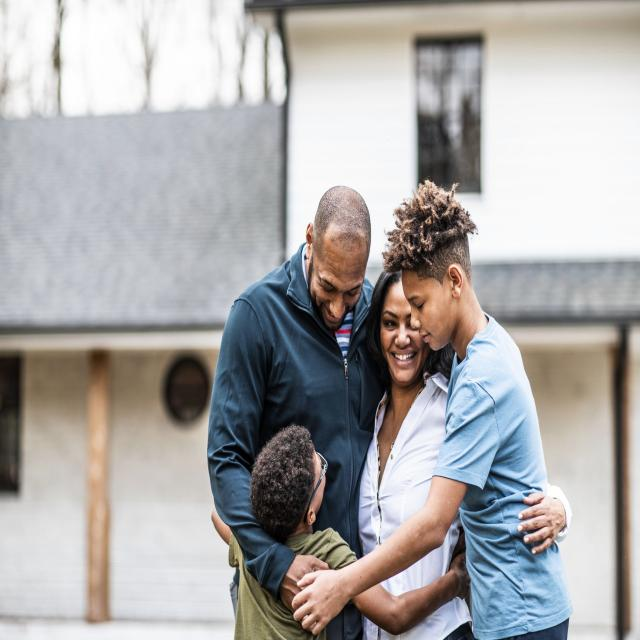adult: (290, 181, 575, 640), (208, 182, 384, 640), (358, 259, 474, 640)
child: (209, 428, 469, 640)
